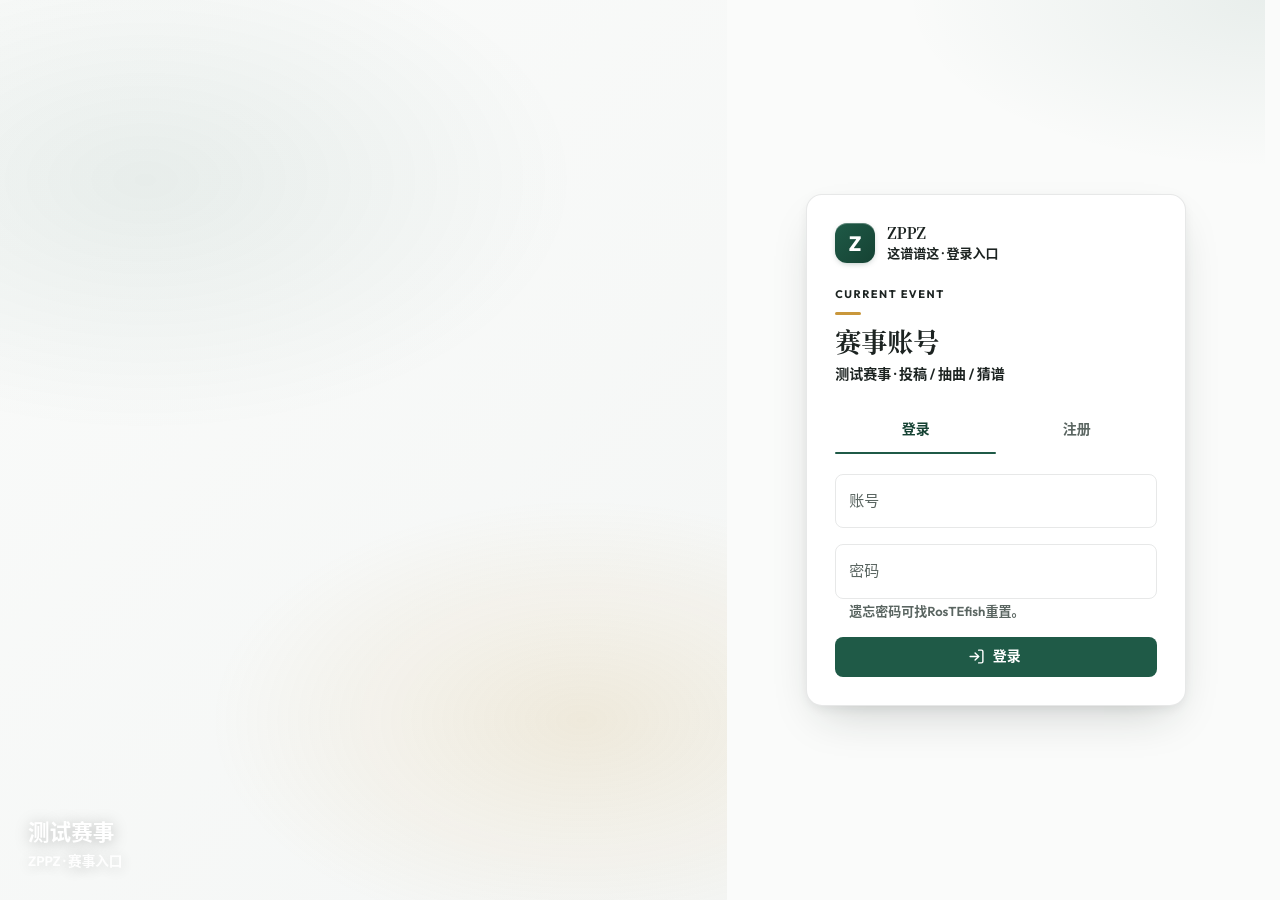
Scenario: Auth login page › shows the password-reset hint on login and hides it on register
Expected: the heading "赛事账号" is shown, [835,322,939,359]
Expected: the text "遗忘密码可找RosTEfish重置。" is shown, [849,603,1024,619]
Click the tab "注册" at (1077, 430), box [996,406,1157,454]
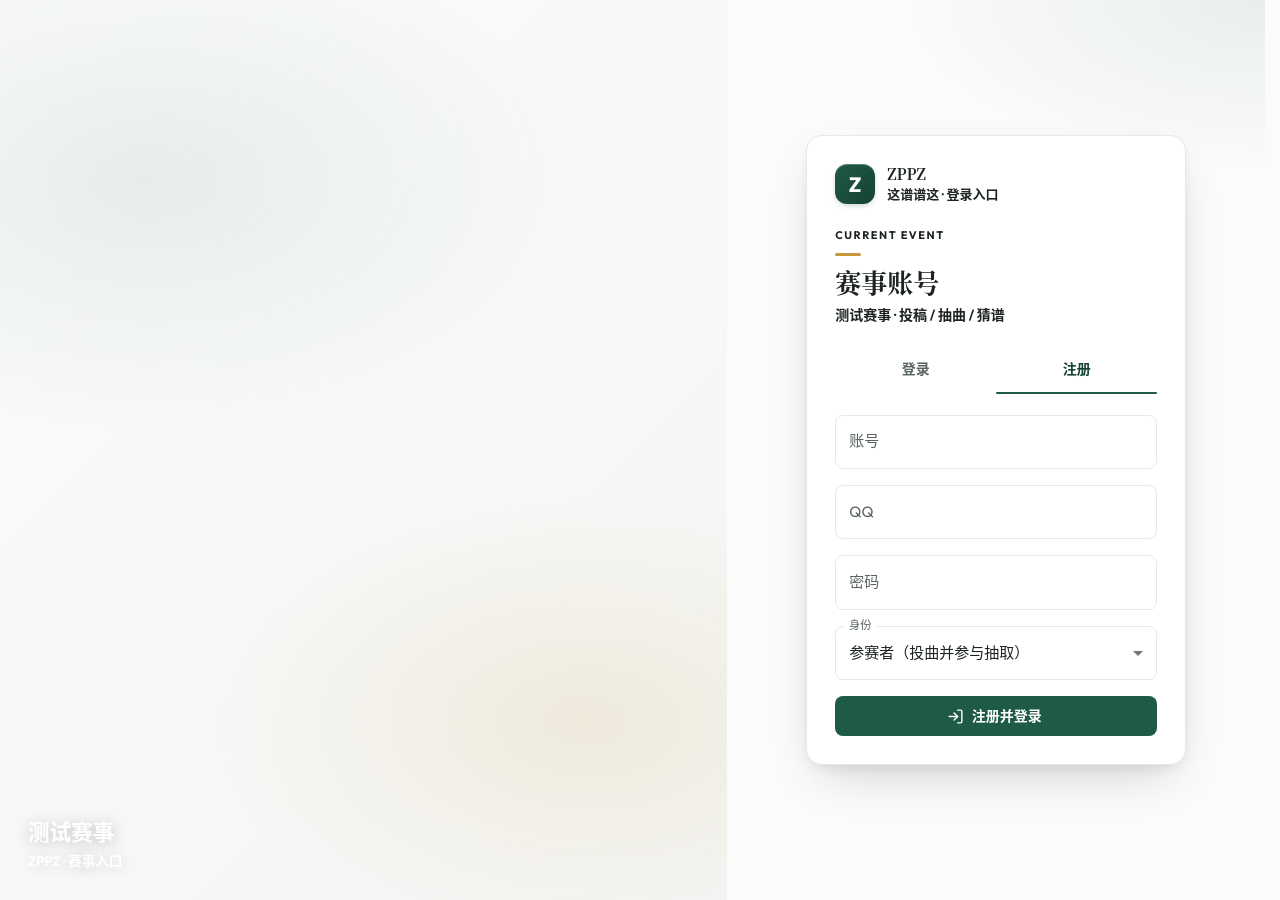
Expected: the text "遗忘密码可找RosTEfish重置。" is gone
